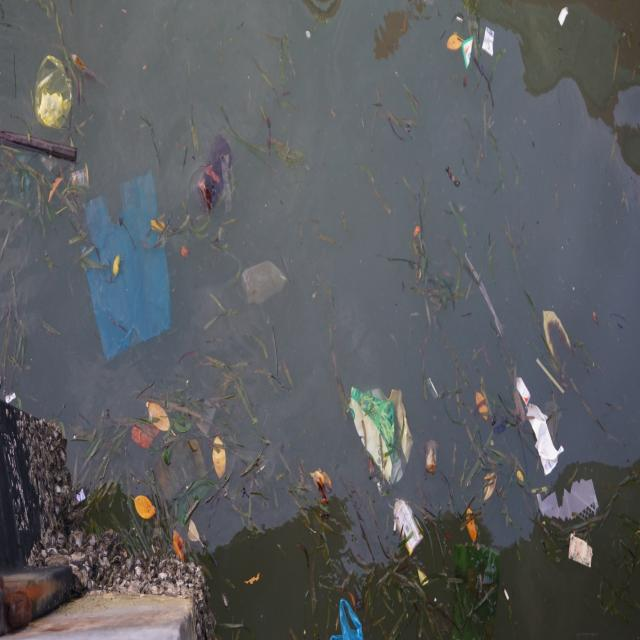Bungkus Makanan: (348, 384, 414, 489), (393, 496, 426, 556), (483, 25, 497, 59)
Bungkus Minuman: (68, 164, 94, 190), (424, 437, 440, 477)
Kantong Plastik: (80, 172, 174, 362), (32, 52, 74, 131), (241, 255, 291, 312), (329, 597, 365, 640)
